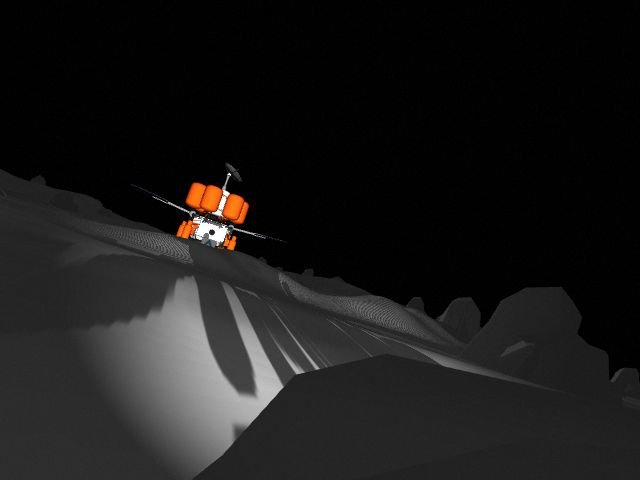homebase: (140, 161, 293, 261)
